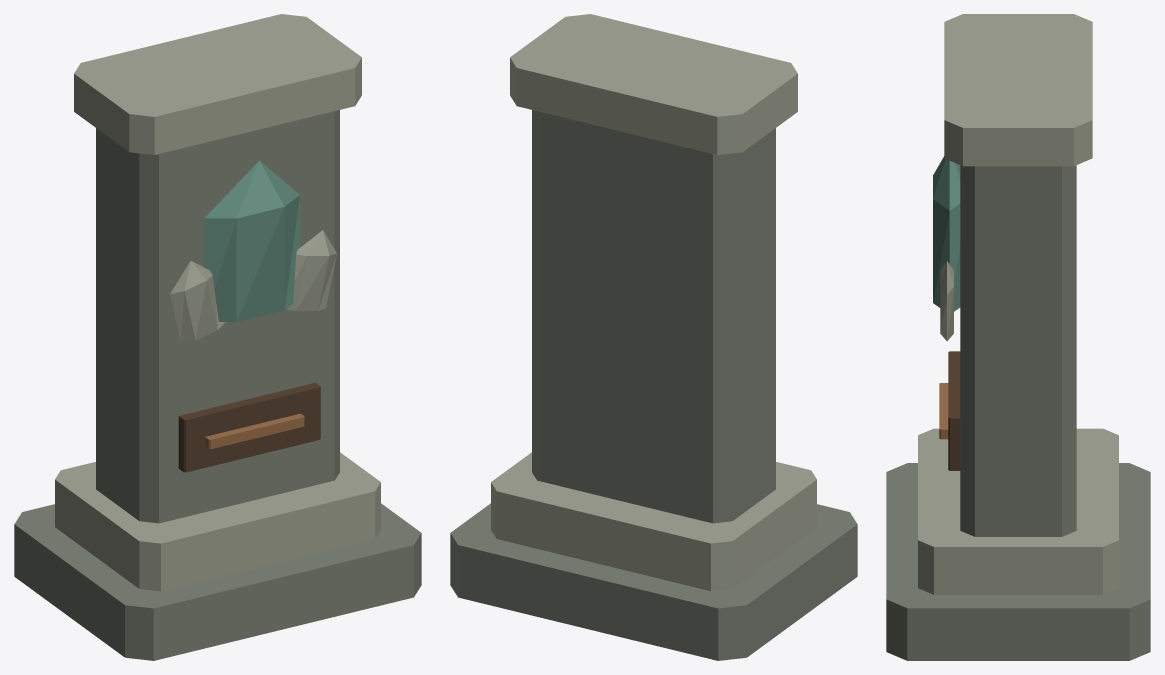
Rendered from decor_boss_memorial.glb.
3 views of the same model, side by side, from view 1: azimuth 30°, elevation 25°; view 2: azimuth 150°, elevation 25°; view 3: azimuth 270°, elevation 25° (orthographic).
Parts seen in each view (by area): view 1: geometry; view 2: geometry; view 3: geometry.
Part boxes in pixels (left/top/right/bottom): geometry: left=14, top=14, right=421, bottom=660; geometry: left=450, top=14, right=857, bottom=660; geometry: left=886, top=14, right=1150, bottom=660.
Bounding box in the file's own units: 0.65 × 1.08 × 0.5.
